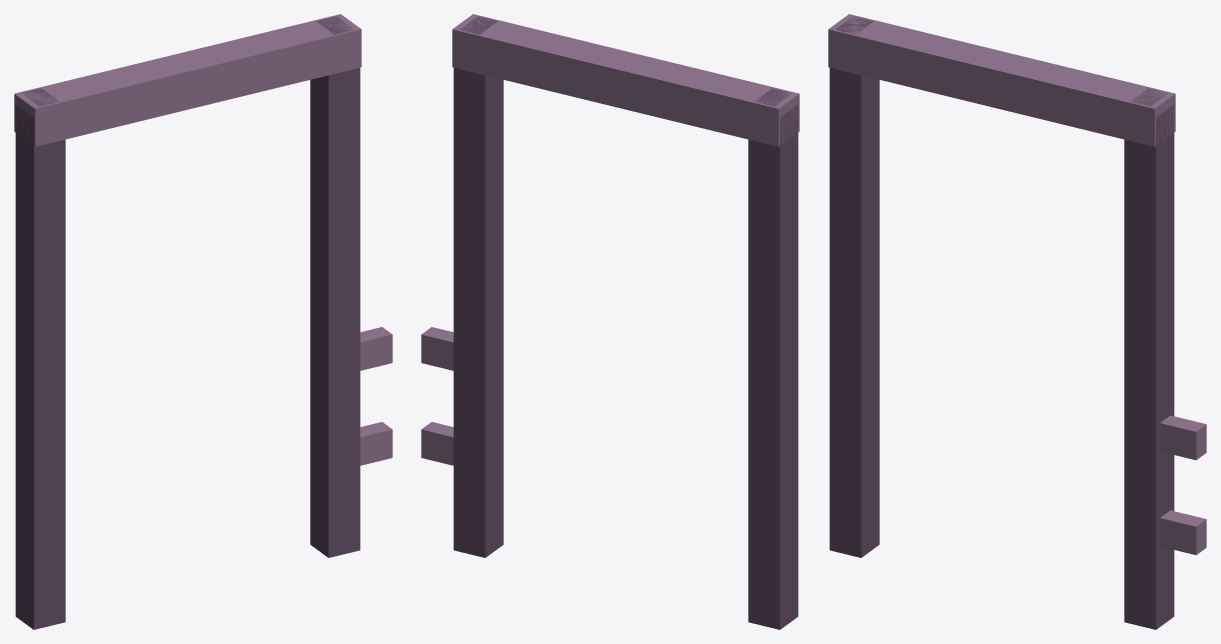
Rendered from TW_WOOD_GATE_FRAME_A_LOD0.glb.
The picture shows the model from 3 angles, left to right: view 1: azimuth 30°, elevation 25°; view 2: azimuth 150°, elevation 25°; view 3: azimuth 330°, elevation 25°; orthographic projection.
Visible parts, largest first — view 1: TW_WOOD_GATE_FRAME_A_LOD0; view 2: TW_WOOD_GATE_FRAME_A_LOD0; view 3: TW_WOOD_GATE_FRAME_A_LOD0.
Boxes of the visible parts, x1=… form: TW_WOOD_GATE_FRAME_A_LOD0: x1=14, y1=14, x2=392, y2=629; TW_WOOD_GATE_FRAME_A_LOD0: x1=421, y1=14, x2=799, y2=629; TW_WOOD_GATE_FRAME_A_LOD0: x1=828, y1=14, x2=1206, y2=629.
Size of the model in its own units: 1.6 by 2.2 by 0.16.
Materials: 1 (1 with a texture image).
